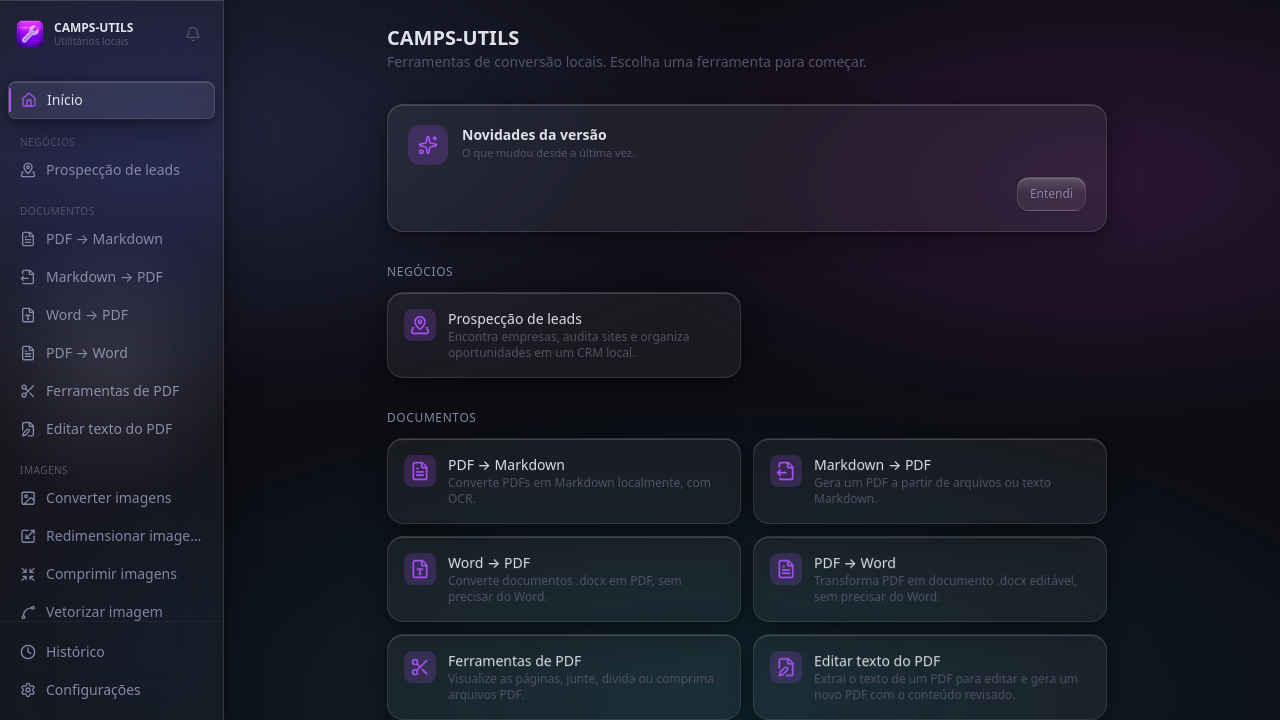
Home / navegação › abre a ferramenta PDF → Markdown e mostra a zona de soltar
What coordinates should you click on to do the following:
click the button with aria-label "abrir pdf → markdown"
I would click on:
 (564, 481)
Its box is 387,438 -> 741,524.
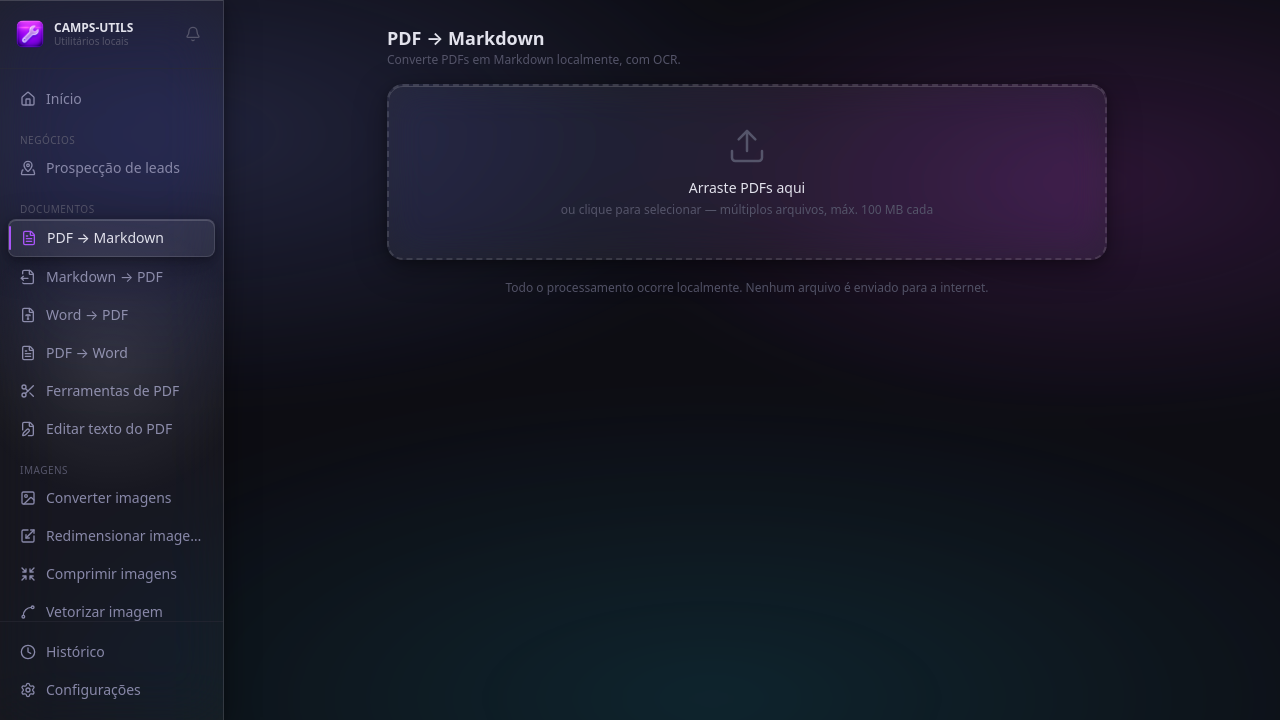
Expected: the button with aria-label "arrastar" is shown, 387,84 -> 1107,260
